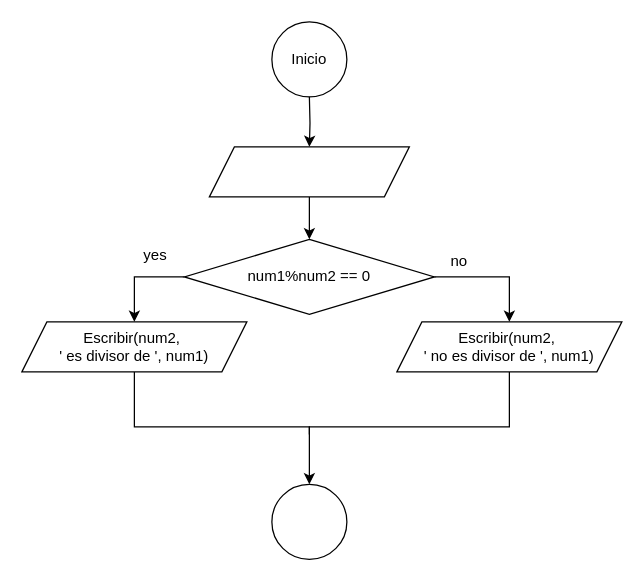
Some shapes in this 644 by 581 pixel diagram are drawn without their labels. The shapes that lost their labels are listed below. From the top down, each one's centre as x and y in pixels, then its label:
At (308,171): "Leer(num1,num2)".
At (309,521): "Fin".
